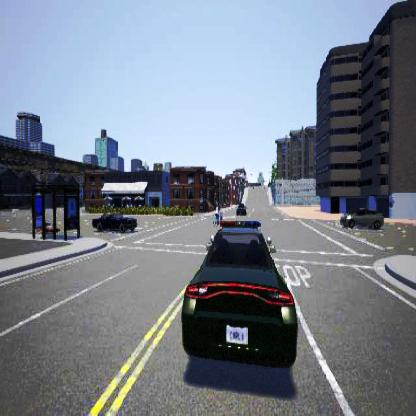bike: (211, 199, 224, 226)
vehicle: (181, 212, 297, 367), (339, 207, 383, 229), (92, 211, 136, 232), (234, 202, 247, 214)
